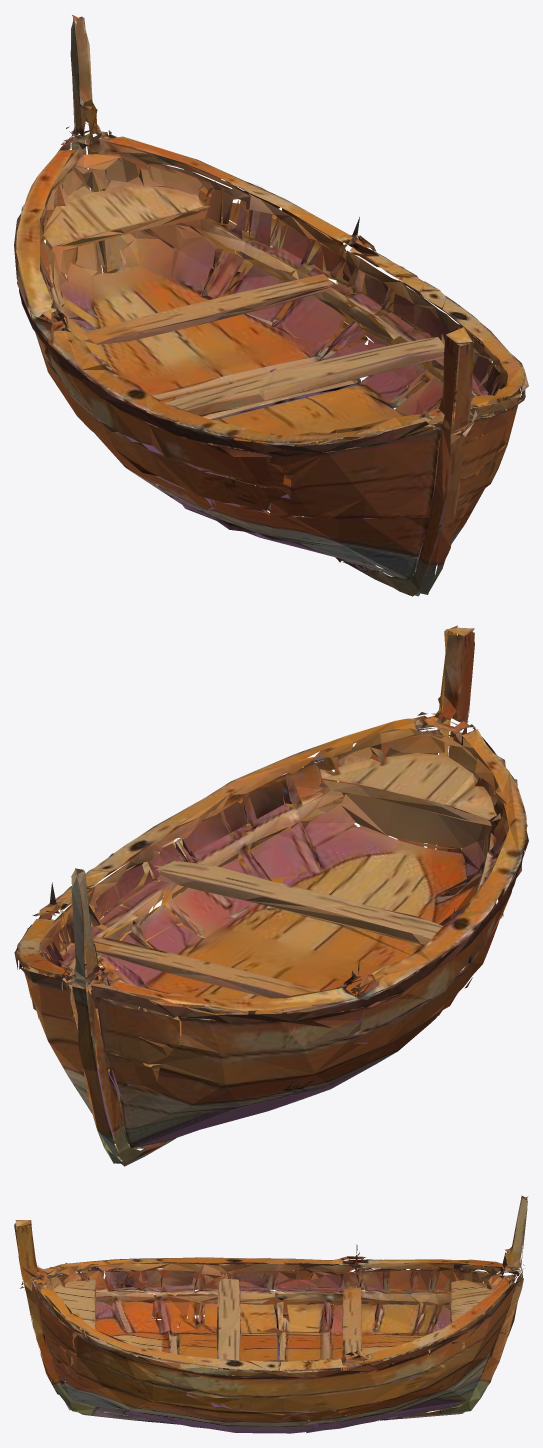
The model's file is boat.glb.
3 views of the same model, one above another, from view 1: azimuth 30°, elevation 25°; view 2: azimuth 150°, elevation 25°; view 3: azimuth 270°, elevation 25° (orthographic). The views are drawn at different scales.
Visible parts, largest first — view 1: world; view 2: world; view 3: world.
Boxes of the visible parts, x1,y1,x2,y2 form: world: (14,15,528,596); world: (14,625,528,1166); world: (14,1195,528,1433).
Bounding box in the file's own units: 1.03 × 0.9707 × 1.99.
1 material, 1 textured.
